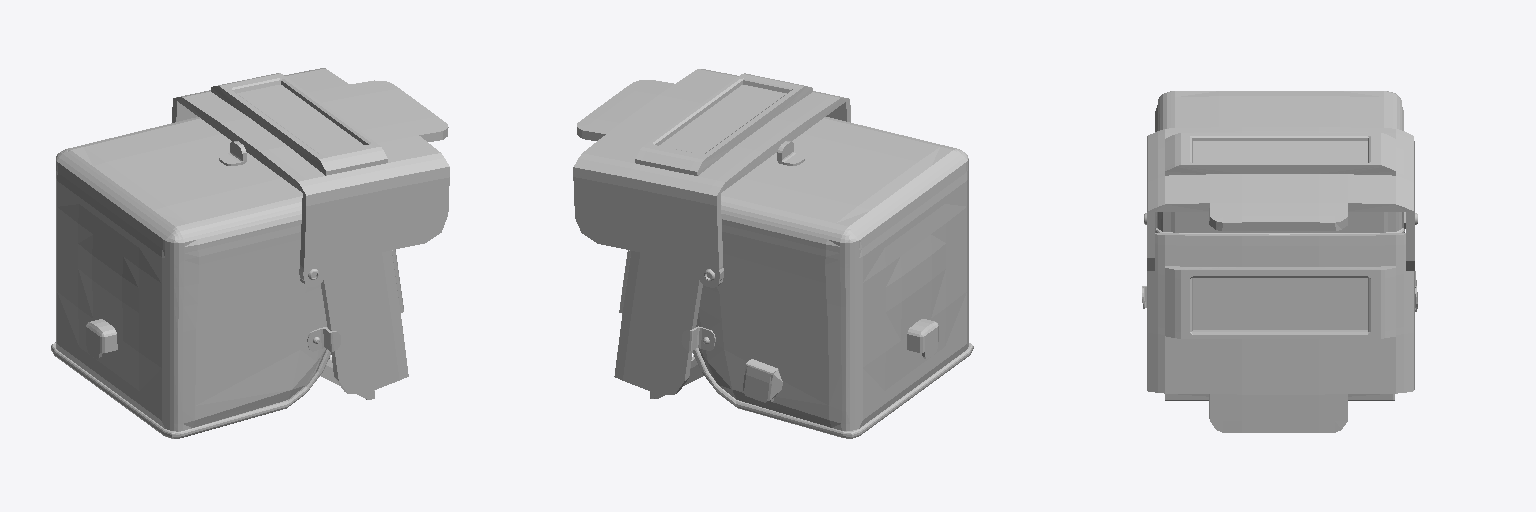
File: 1helmet_altyn2.obj
3 renders of one model, left to right at view 1: azimuth 30°, elevation 25°; view 2: azimuth 150°, elevation 25°; view 3: azimuth 270°, elevation 25°, orthographic.
Parts seen in each view (by area): view 1: Kube, Zabralo_pod_Kube.003, Zabralo_op_Kube.005, Kube.001, Cilindre; view 2: Kube, Zabralo_pod_Kube.003, Zabralo_op_Kube.005, Kube.003_Kube.006, Kube.001, Cilindre.003_Cilindre.004; view 3: Zabralo_op_Kube.005, Zabralo_pod_Kube.003, Kube, Kube.004_Kube.007.
Part boxes in pixels (bbox=[...]): Kube: bbox=[51, 117, 330, 438]; Zabralo_pod_Kube.003: bbox=[172, 68, 449, 286]; Zabralo_op_Kube.005: bbox=[299, 240, 408, 393]; Kube.001: bbox=[86, 319, 117, 359]; Cilindre: bbox=[307, 327, 340, 351]; Kube: bbox=[693, 117, 973, 438]; Zabralo_pod_Kube.003: bbox=[573, 69, 850, 287]; Zabralo_op_Kube.005: bbox=[614, 237, 723, 395]; Kube.003_Kube.006: bbox=[743, 359, 782, 402]; Kube.001: bbox=[907, 319, 938, 358]; Cilindre.003_Cilindre.004: bbox=[681, 326, 715, 350]; Zabralo_op_Kube.005: bbox=[1147, 233, 1414, 432]; Zabralo_pod_Kube.003: bbox=[1147, 127, 1414, 270]; Kube: bbox=[1155, 91, 1404, 234]; Kube.004_Kube.007: bbox=[1165, 394, 1394, 400].
Size of the model in its own units: 3.33 by 2.53 by 2.44.